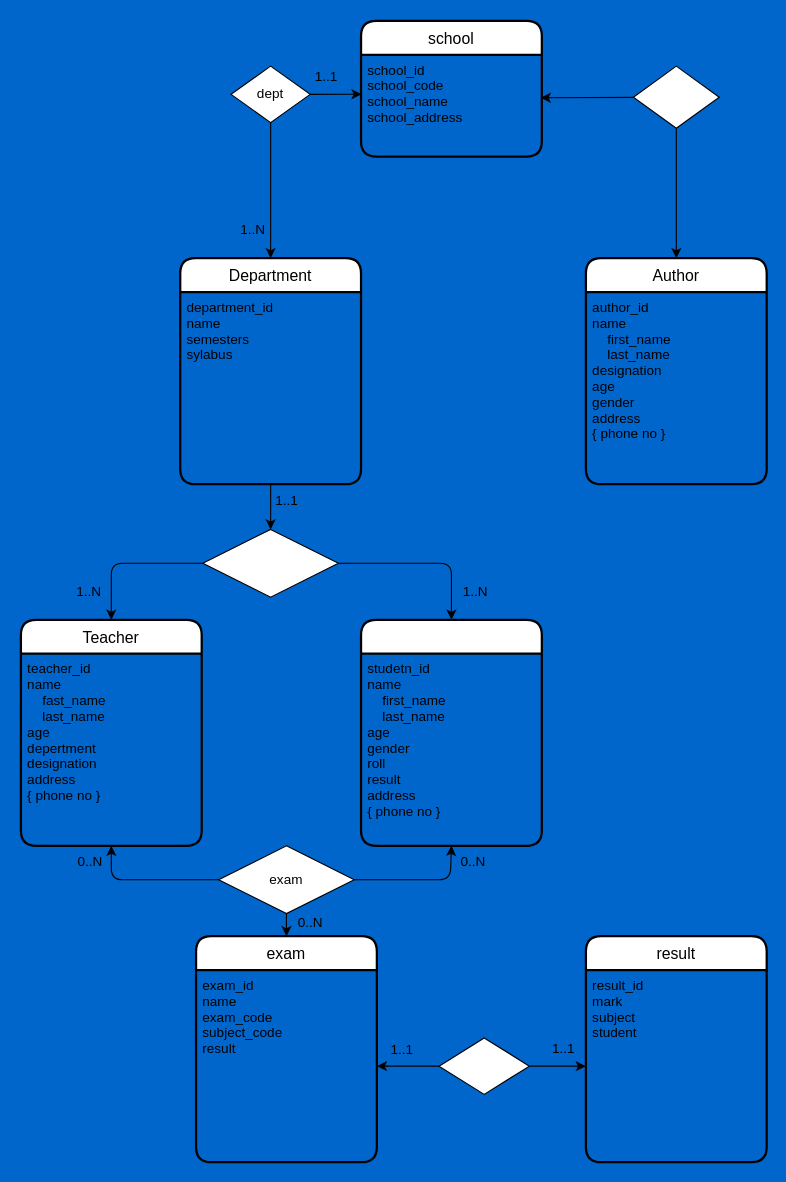
Some shapes in this 786 by 1182 pixel diagram are drawn without their labels. Each missing label, with the box of its shape:
class: (202, 528, 338, 597)
maintain: (632, 65, 719, 128)
mark: (438, 1037, 529, 1094)
Student: (359, 618, 542, 846)
